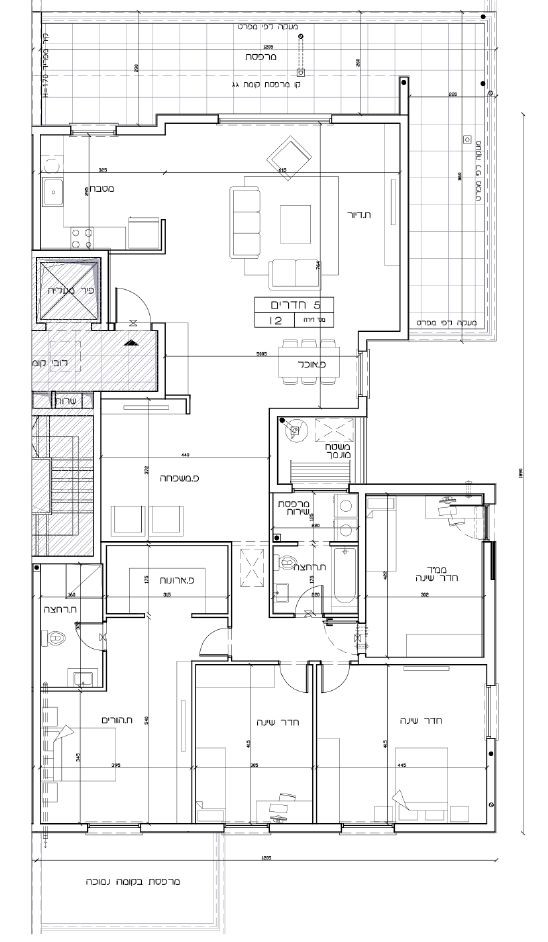door: (112, 272, 154, 315), (195, 624, 227, 658), (277, 665, 309, 699), (319, 667, 351, 701)
window: (218, 118, 331, 124), (358, 353, 364, 395), (69, 128, 112, 133)
